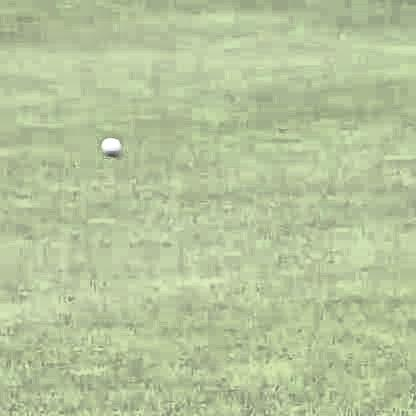golfball: (98, 134, 120, 156)
